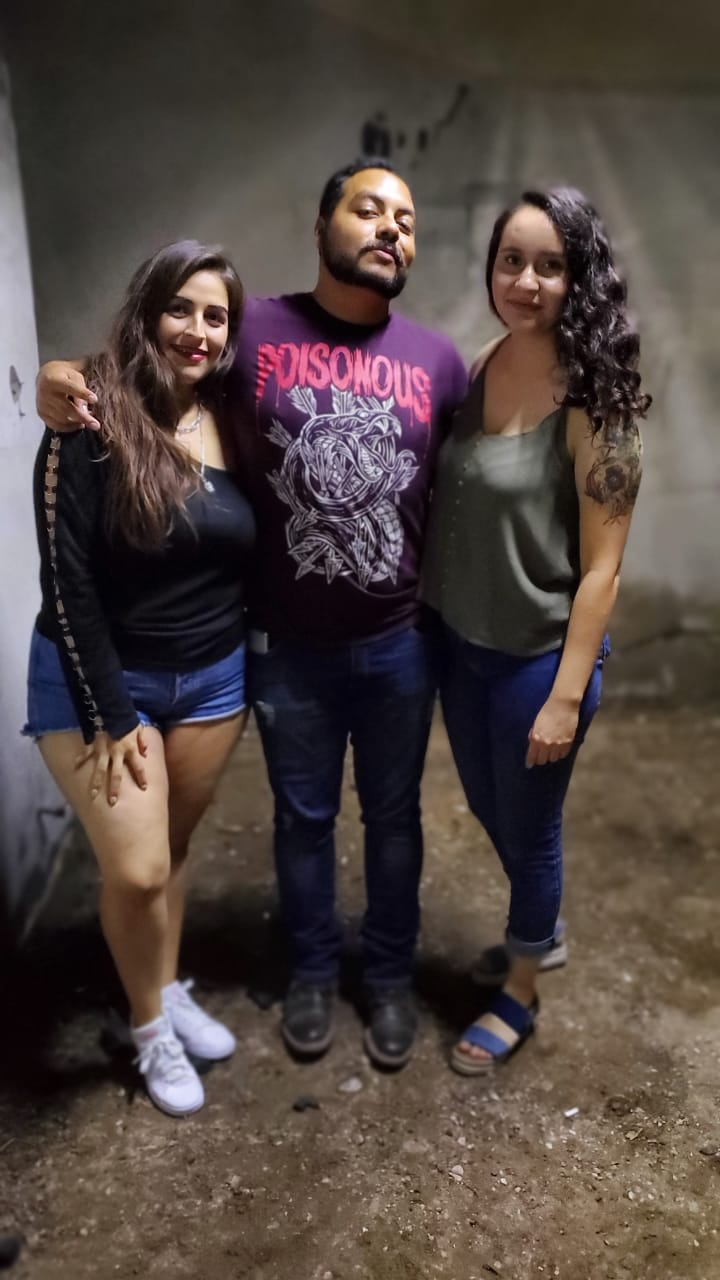Yoshi: (264, 138, 433, 377)
